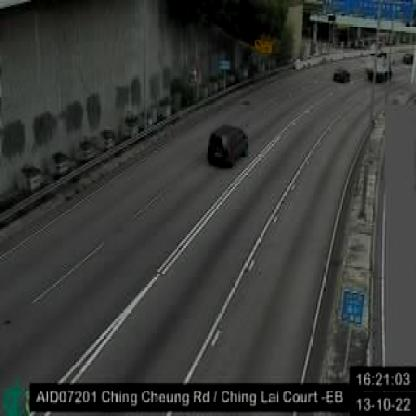Car: (206, 124, 248, 168), (333, 66, 352, 84)
